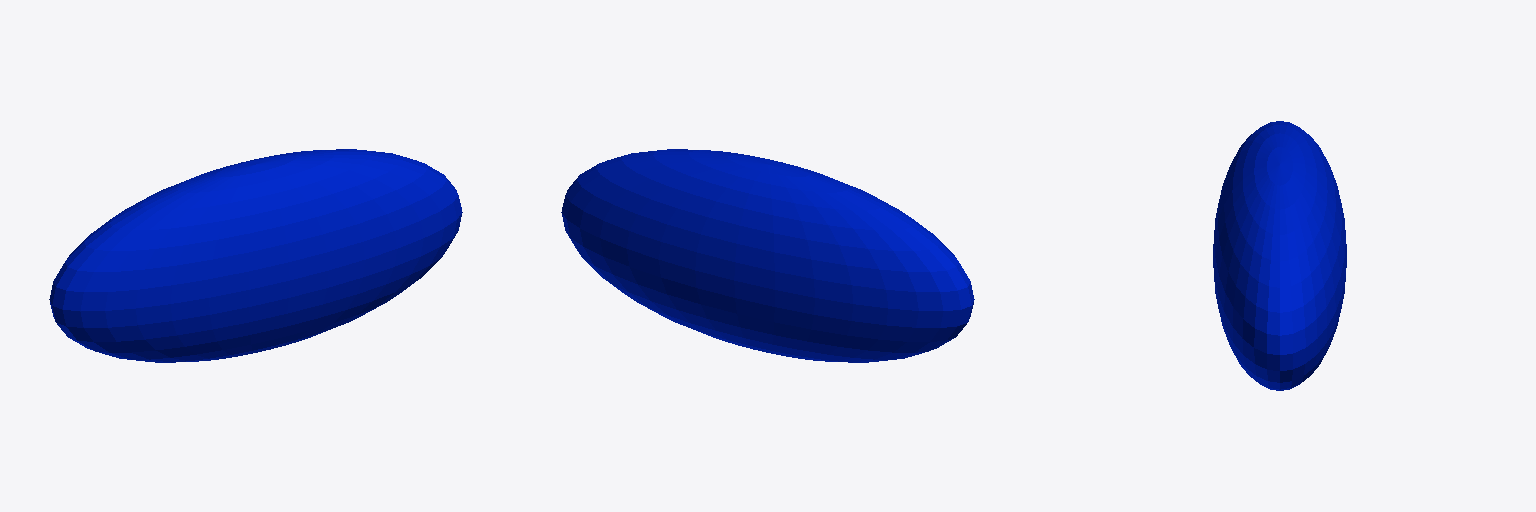
Rendered from moya.obj.
3 views of the same model, side by side, from view 1: azimuth 30°, elevation 25°; view 2: azimuth 150°, elevation 25°; view 3: azimuth 270°, elevation 25° (orthographic).
Visible parts, largest first — view 1: Sphere_Sphere.001; view 2: Sphere_Sphere.001; view 3: Sphere_Sphere.001.
Part boxes in pixels (left/top/right/bottom): Sphere_Sphere.001: left=49, top=149, right=462, bottom=362; Sphere_Sphere.001: left=561, top=149, right=974, bottom=362; Sphere_Sphere.001: left=1213, top=121, right=1346, bottom=390.
Size of the model in its own units: 7 by 3 by 2.